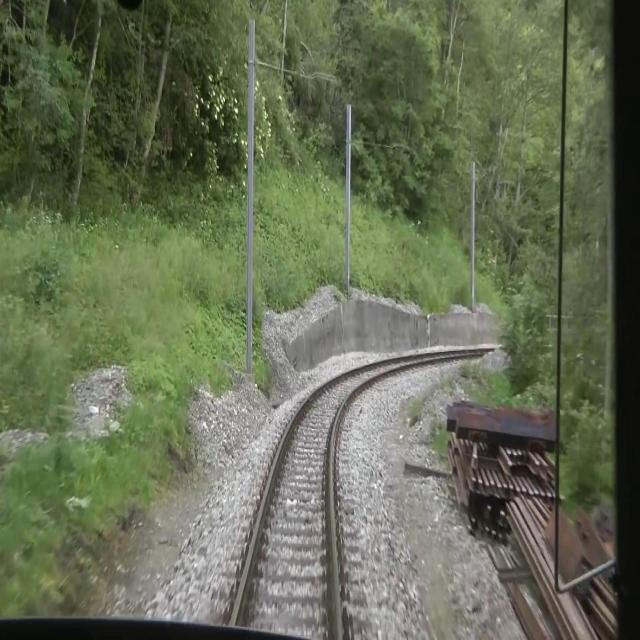rail-track: (230, 357, 419, 639)
